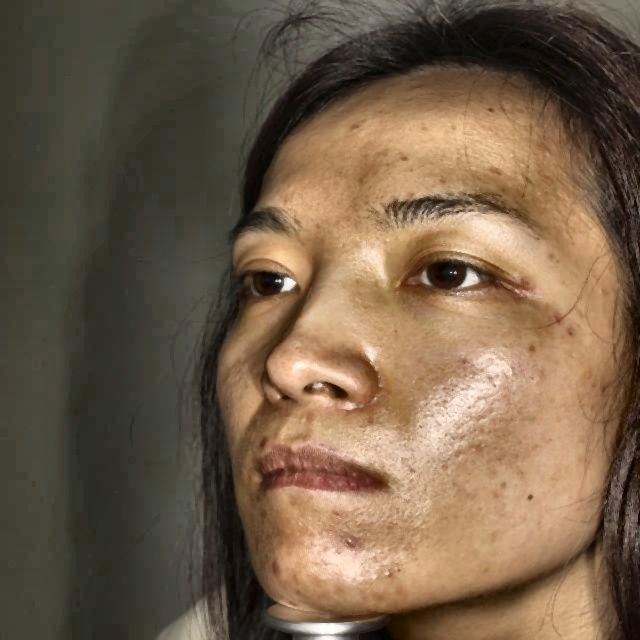comedone: (338, 532, 366, 562), (412, 77, 429, 99), (275, 557, 287, 584)
